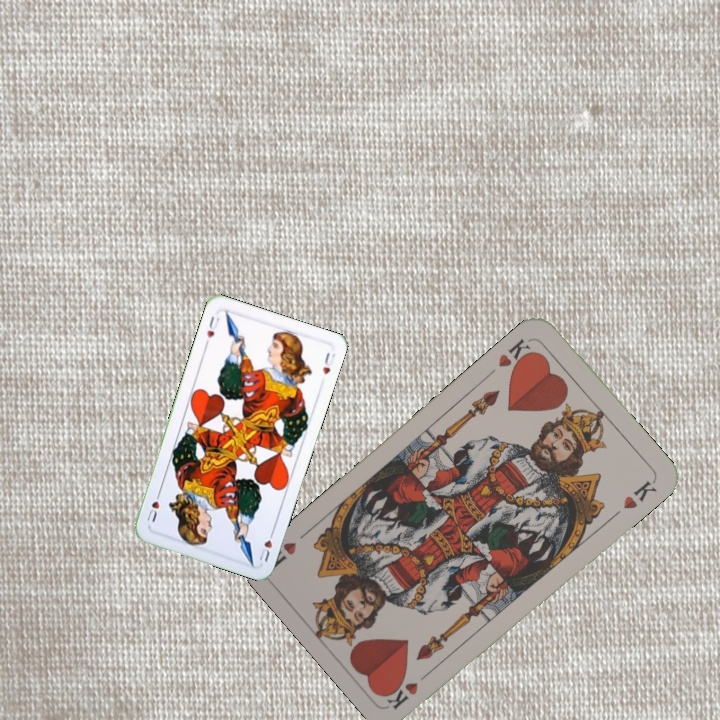HK: (382, 665, 435, 712), (494, 334, 537, 374)
HU: (255, 526, 277, 564), (201, 312, 222, 348)
